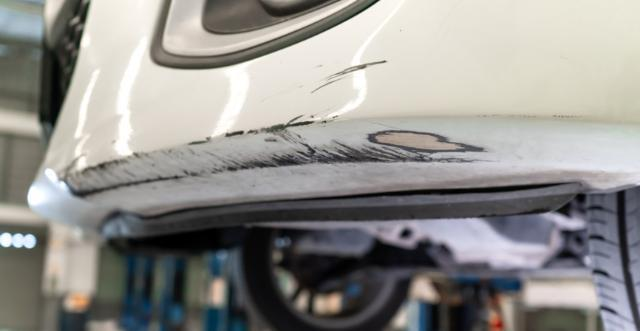Bumper: (48, 58, 602, 196)
